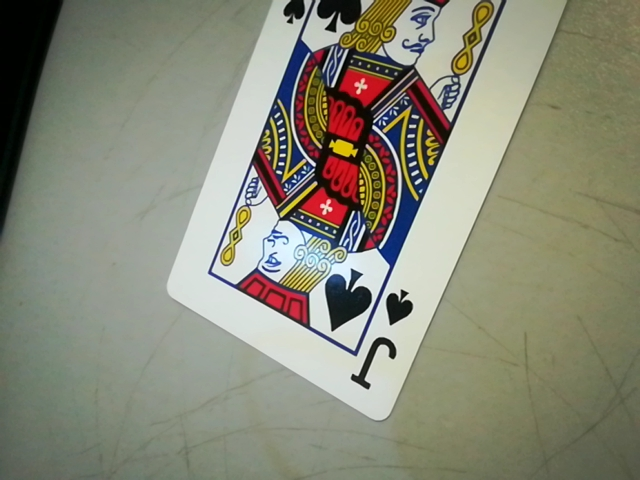ht j: (354, 278, 416, 398)
